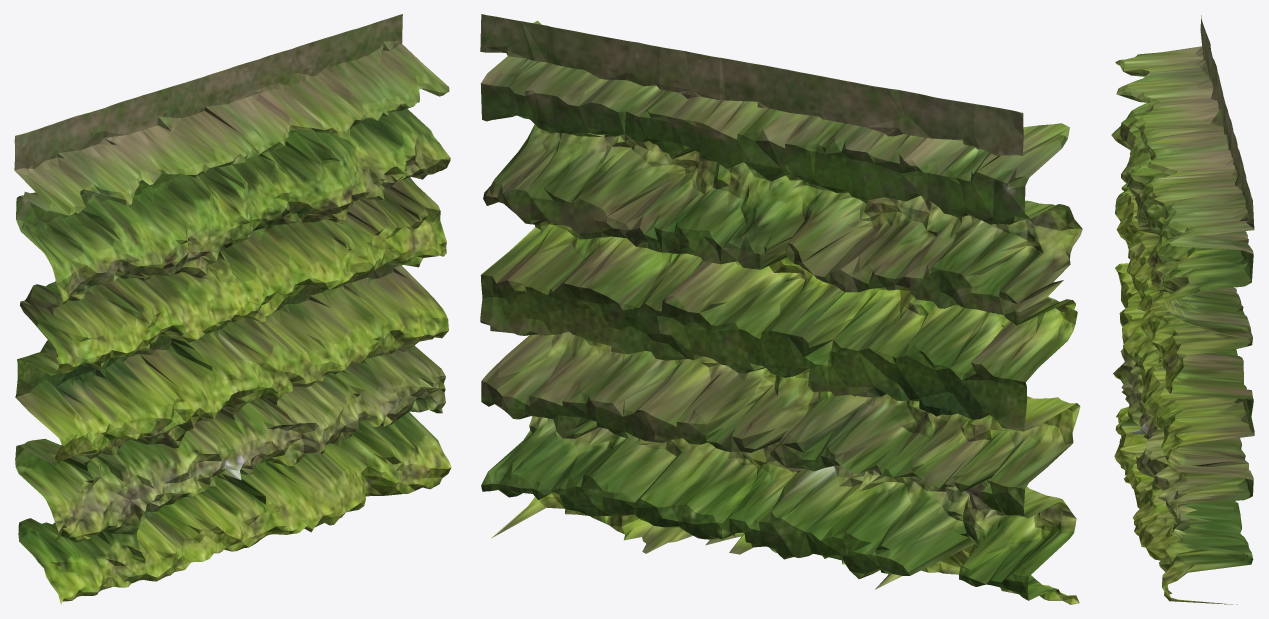
File: map_50_40.obj
3 renders of one model, left to right at view 1: azimuth 30°, elevation 25°; view 2: azimuth 150°, elevation 25°; view 3: azimuth 270°, elevation 25°, orthographic. The views are drawn at different scales.
Visible parts, largest first — view 1: grp1; view 2: grp1; view 3: grp1.
Part boxes in pixels (left/top/right/bottom): grp1: left=14, top=14, right=451, bottom=604; grp1: left=480, top=14, right=1082, bottom=604; grp1: left=1111, top=15, right=1254, bottom=604.
Size of the model in its own units: 10 by 10 by 3.23.
Materials: 1 (1 with a texture image).
